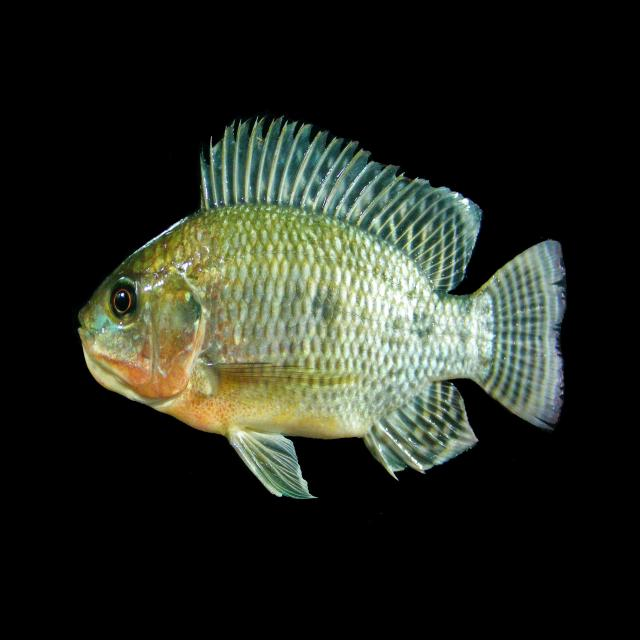ikan: (76, 112, 568, 500)
